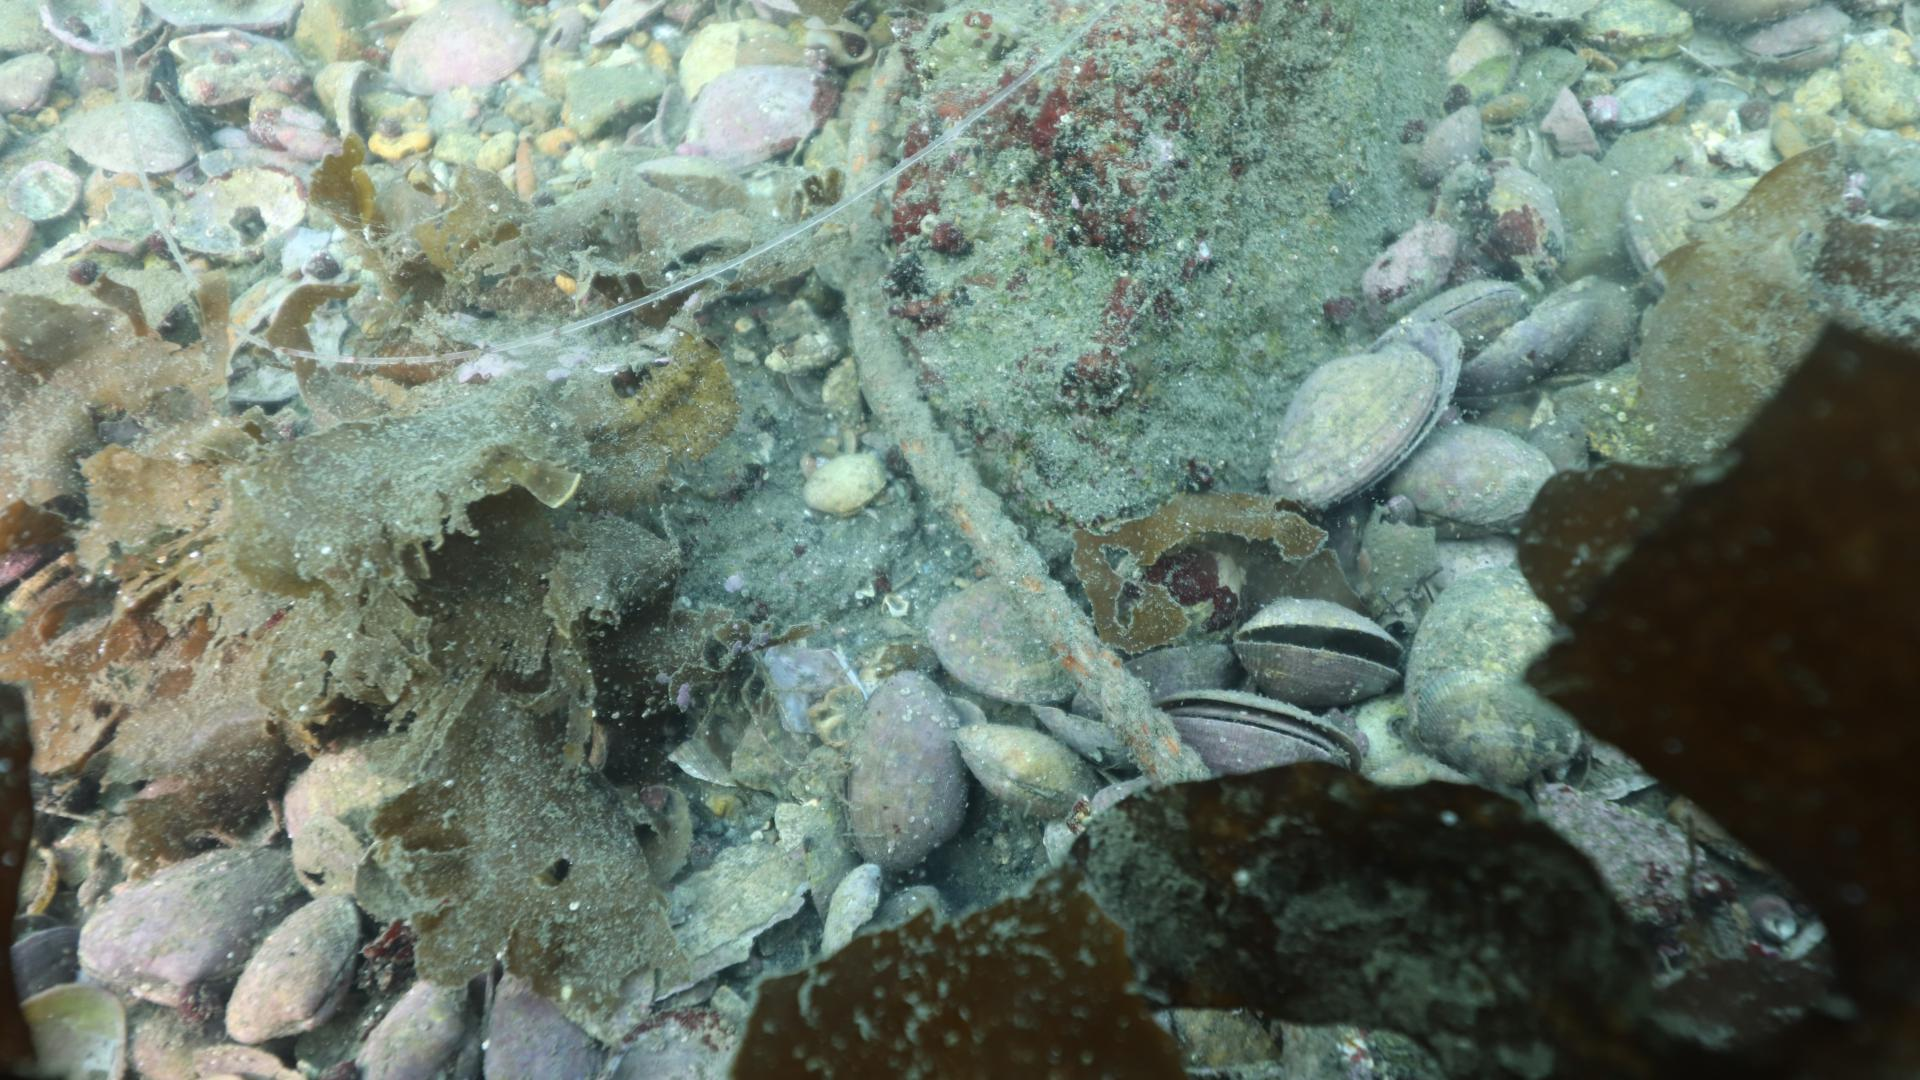rope: (845, 41, 1212, 789)
